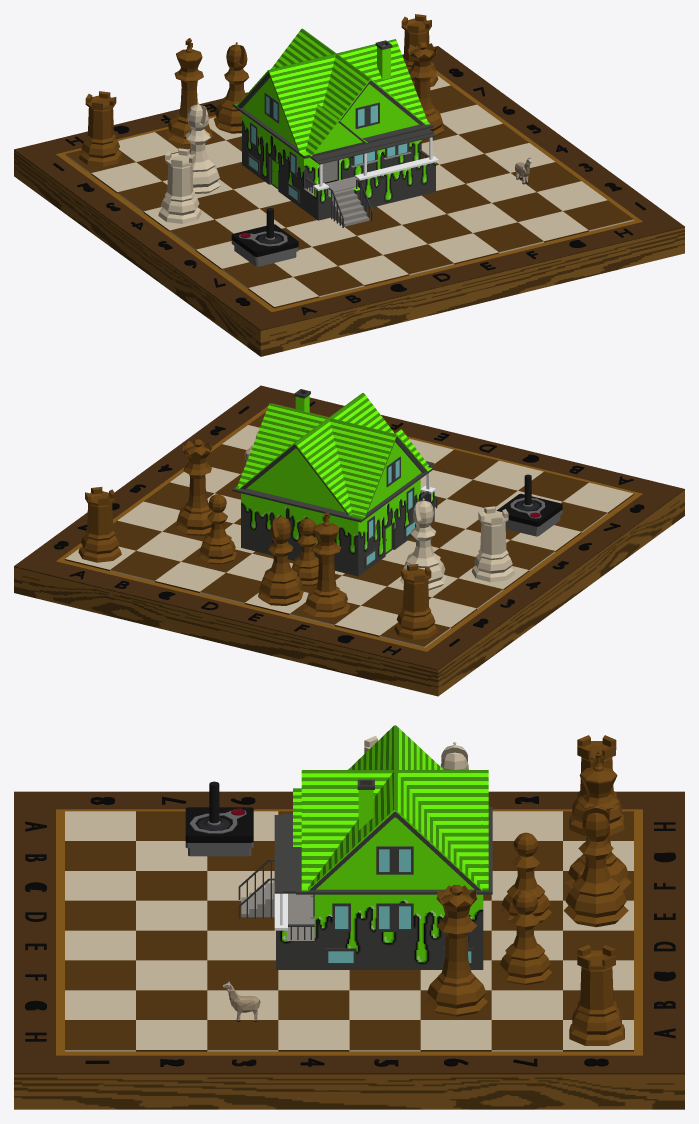
The picture shows the model from 3 angles, top to bottom: view 1: azimuth 30°, elevation 25°; view 2: azimuth 150°, elevation 25°; view 3: azimuth 270°, elevation 25°; orthographic projection. The views are drawn at different scales.
Visible parts, largest first — view 1: Cube.002, Cube.754, OBJRANDOM_JOYSTICK; view 2: Cube.002, Cube.754, OBJRANDOM_JOYSTICK; view 3: Cube.002, Cube.754, OBJRANDOM_JOYSTICK, ANIMAL_LLAMA.
Part boxes in pixels (x1,y1,x2,y2): Cube.002: (14,14,684,356); Cube.754: (232,28,438,227); OBJRANDOM_JOYSTICK: (231,208,298,266); Cube.002: (14,385,684,696); Cube.754: (232,389,437,576); OBJRANDOM_JOYSTICK: (496,474,562,536); Cube.002: (14,735,684,1109); Cube.754: (238,725,492,969); OBJRANDOM_JOYSTICK: (185,781,253,856); ANIMAL_LLAMA: (222,981,260,1021).
Size of the model in its own units: 3981 by 1584 by 4012.
Materials: 28 (3 with a texture image).
